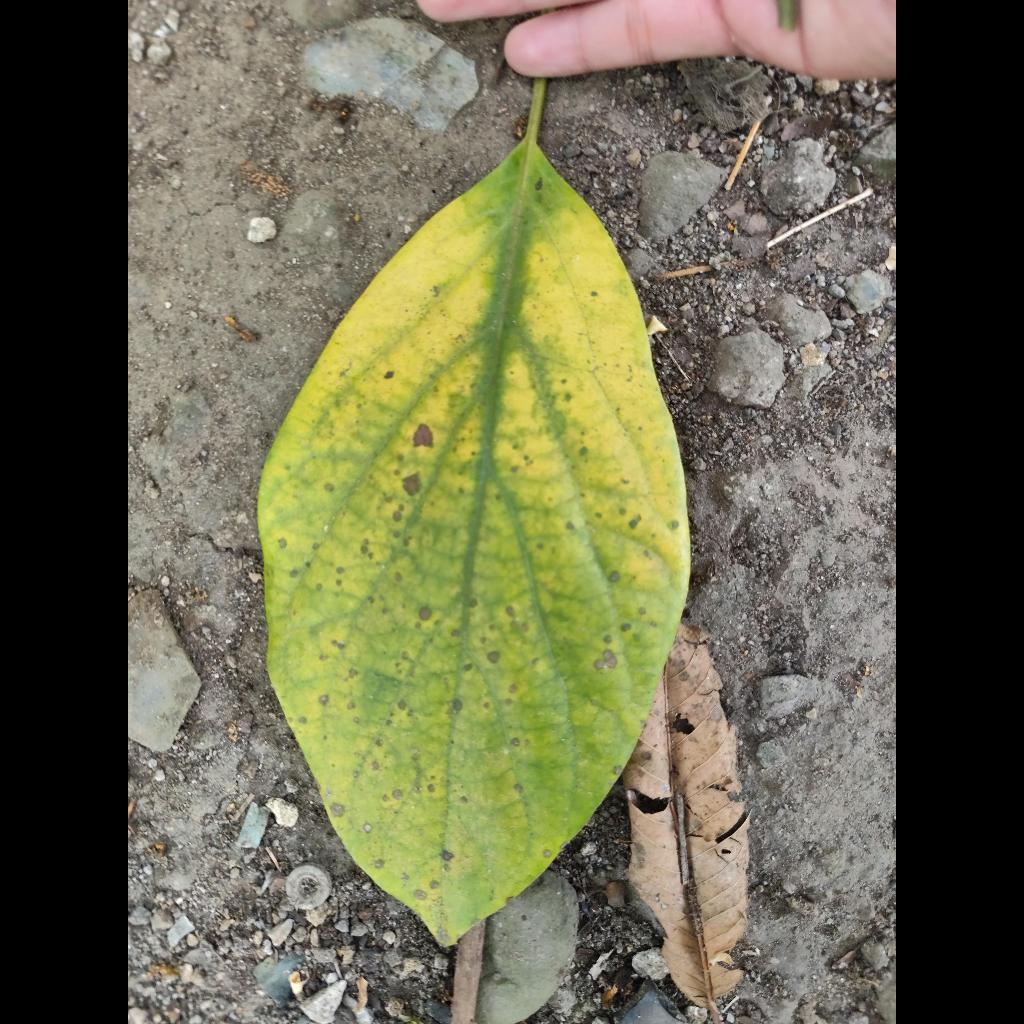deficiencia_nutricional: (258, 80, 689, 944)
